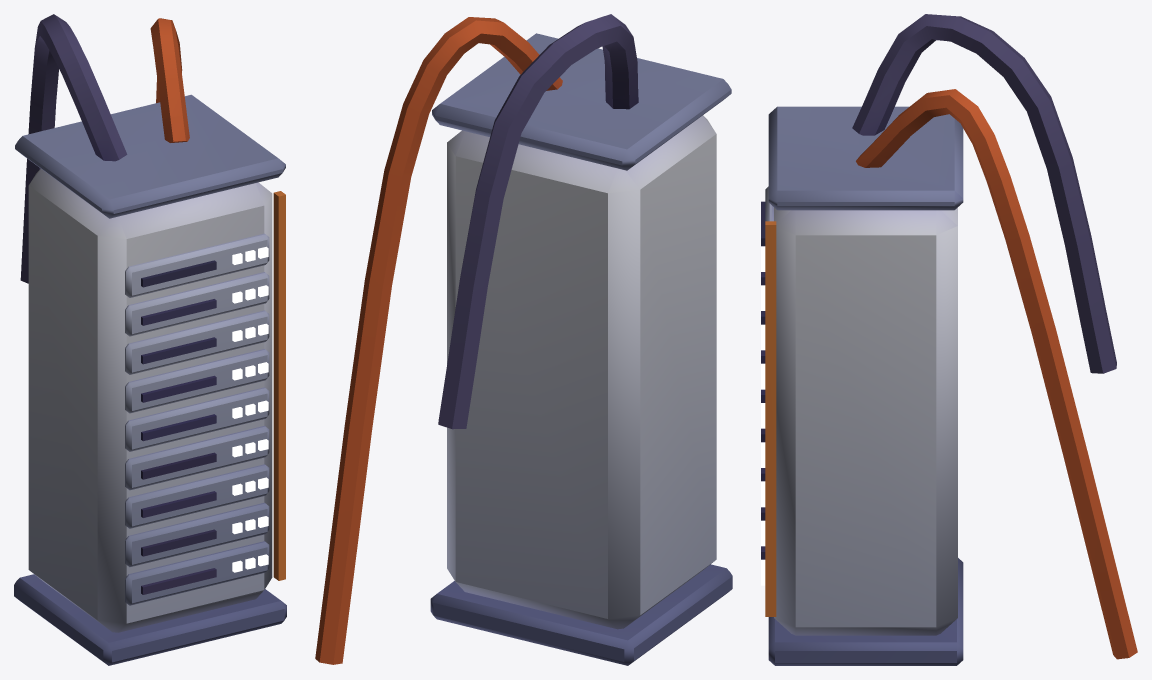
The model's file is hub_prop_server_rack.glb.
The picture shows the model from 3 angles, left to right: view 1: azimuth 30°, elevation 25°; view 2: azimuth 150°, elevation 25°; view 3: azimuth 270°, elevation 25°; orthographic projection. The views are drawn at different scales.
Visible parts, largest first — view 1: hub_prop_server_rack; view 2: hub_prop_server_rack; view 3: hub_prop_server_rack.
Boxes of the visible parts, x1,y1,x2,y2 form: hub_prop_server_rack: [14, 14, 286, 665]; hub_prop_server_rack: [315, 14, 732, 665]; hub_prop_server_rack: [761, 14, 1137, 665].
Bounding box in the file's own units: 1.11 × 2.97 × 1.74.
